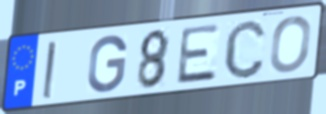8: (135, 27, 172, 91)
C: (222, 17, 269, 81)
E: (174, 22, 222, 87)
G: (85, 33, 130, 94)
I: (40, 39, 58, 102)
O: (267, 14, 313, 75)
